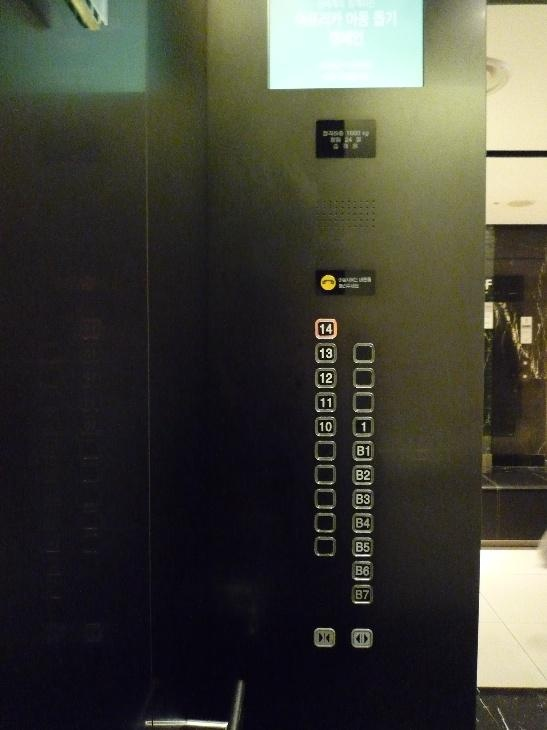1: (353, 417, 375, 439)
10: (314, 416, 337, 438)
11: (314, 391, 338, 413)
12: (314, 367, 338, 389)
13: (314, 342, 338, 365)
14: (313, 317, 338, 340)
B1: (351, 440, 375, 462)
B2: (350, 464, 374, 486)
B3: (351, 487, 376, 511)
B4: (350, 512, 375, 534)
B5: (351, 536, 375, 558)
B6: (351, 560, 374, 583)
B7: (350, 584, 374, 605)
call: (319, 273, 337, 293)
close: (312, 627, 337, 649)
empty: (352, 341, 376, 365), (313, 511, 338, 534), (352, 367, 376, 390), (314, 536, 337, 559), (314, 487, 337, 510), (313, 464, 337, 486), (352, 392, 376, 414), (314, 440, 337, 462)
led: (267, 1, 425, 91)
open: (350, 627, 374, 649)
